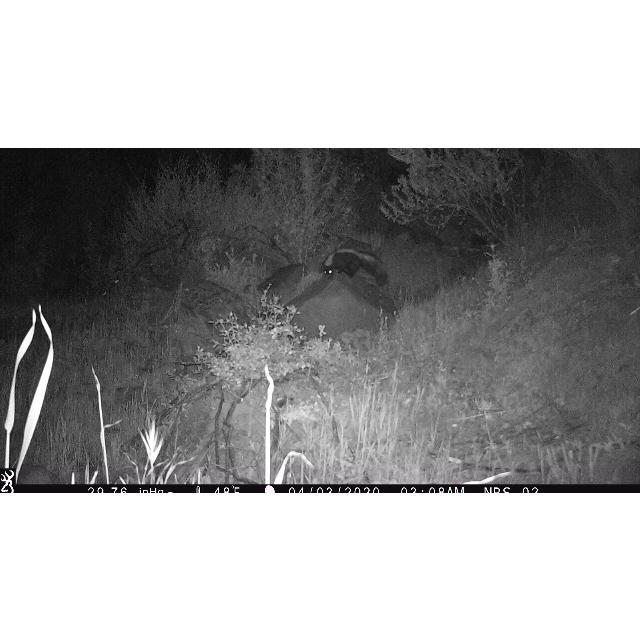animals: (322, 246, 388, 288)
